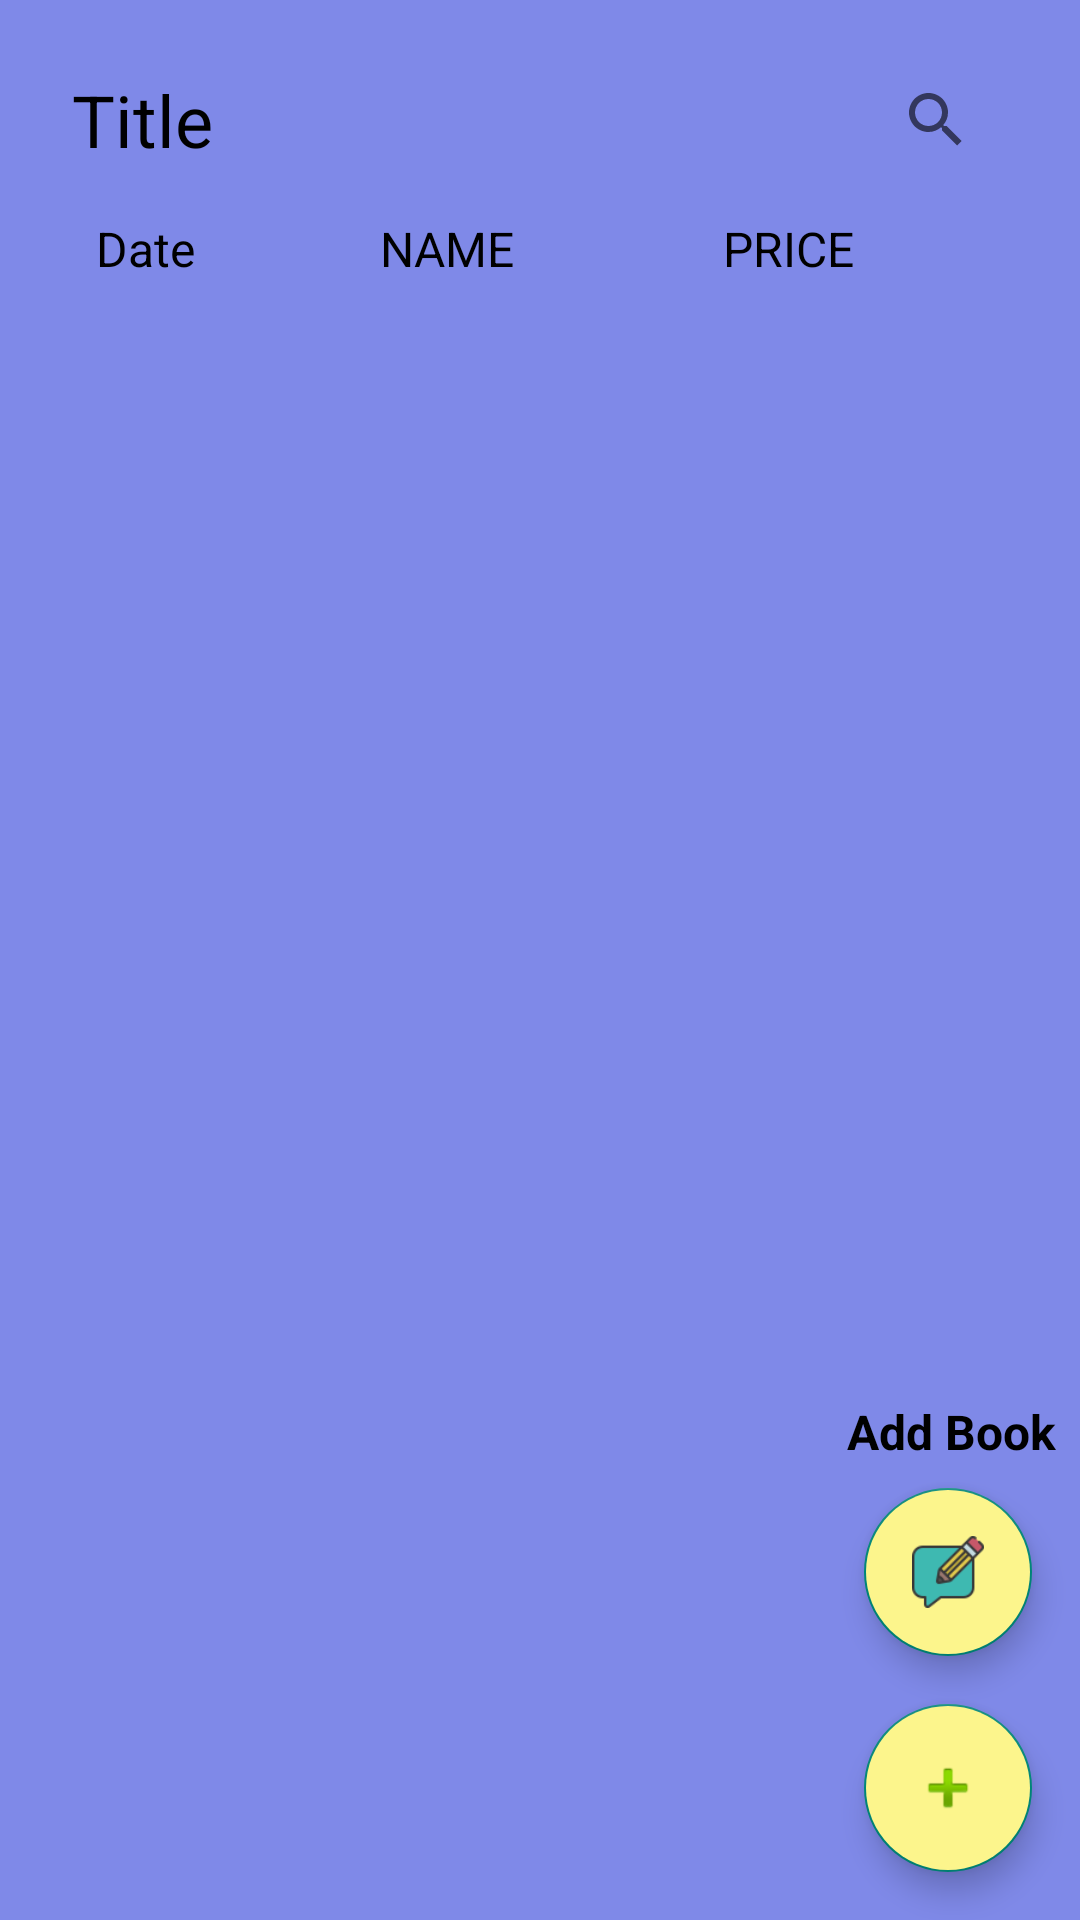

Named icons in this screenshot (1080w x 1920h) and their bounding boxes, (x1, y1, x2, y2):
add: (864, 1704, 1032, 1872)
write: (864, 1488, 1032, 1656)
